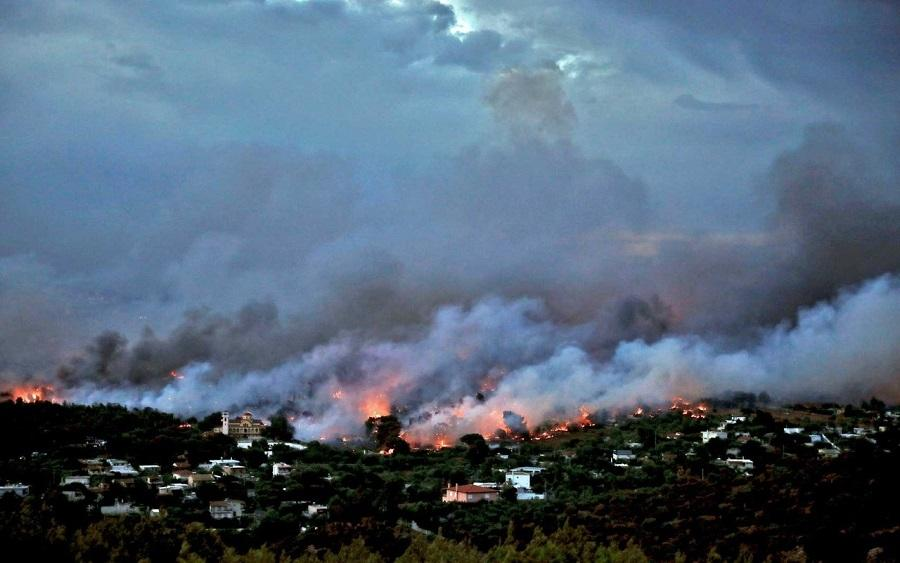fire: (8, 384, 45, 406), (361, 393, 389, 421), (573, 406, 594, 429), (682, 404, 704, 420), (532, 427, 553, 441), (436, 436, 453, 451), (328, 388, 343, 401), (379, 445, 397, 455), (551, 424, 570, 433), (668, 396, 680, 410), (635, 405, 644, 415)
